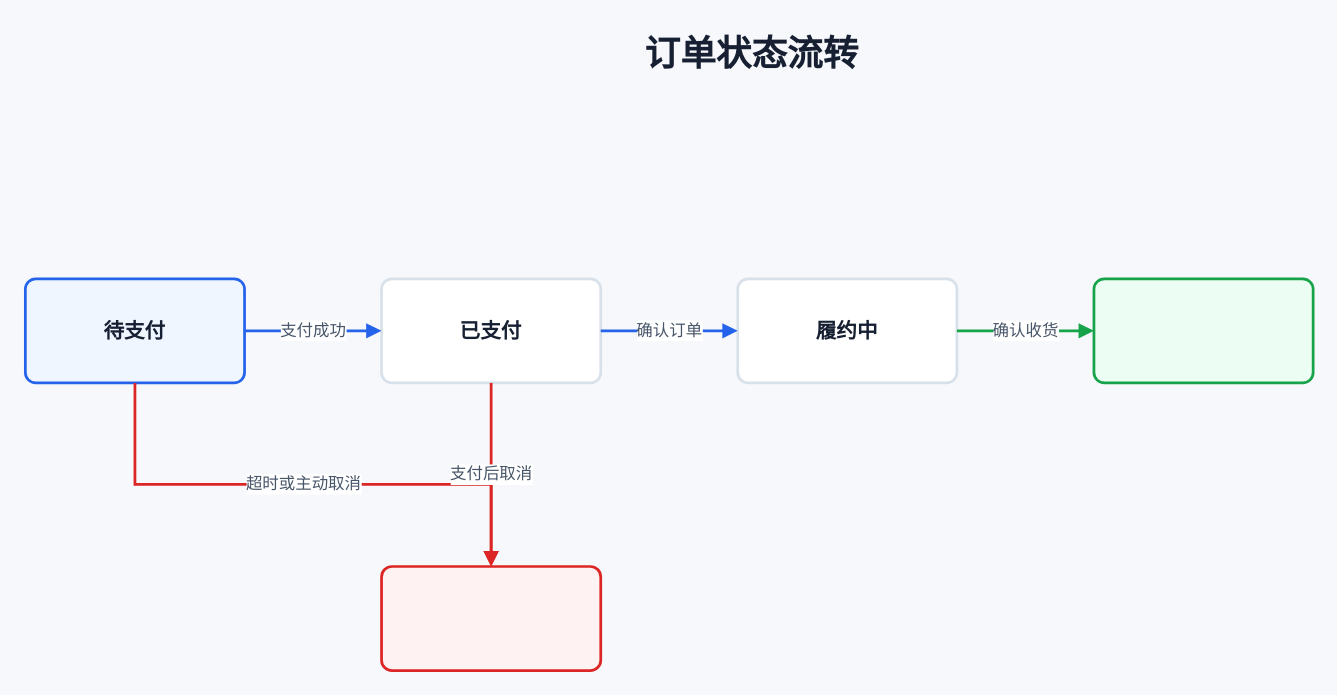
This 1337x695 diagram has some shape labels left out. Here are the shapes that lost their labels. From the top down, the centre of each, then its label:
At pixel 1203 330: "已完成".
At pixel 490 617: "已取消".
